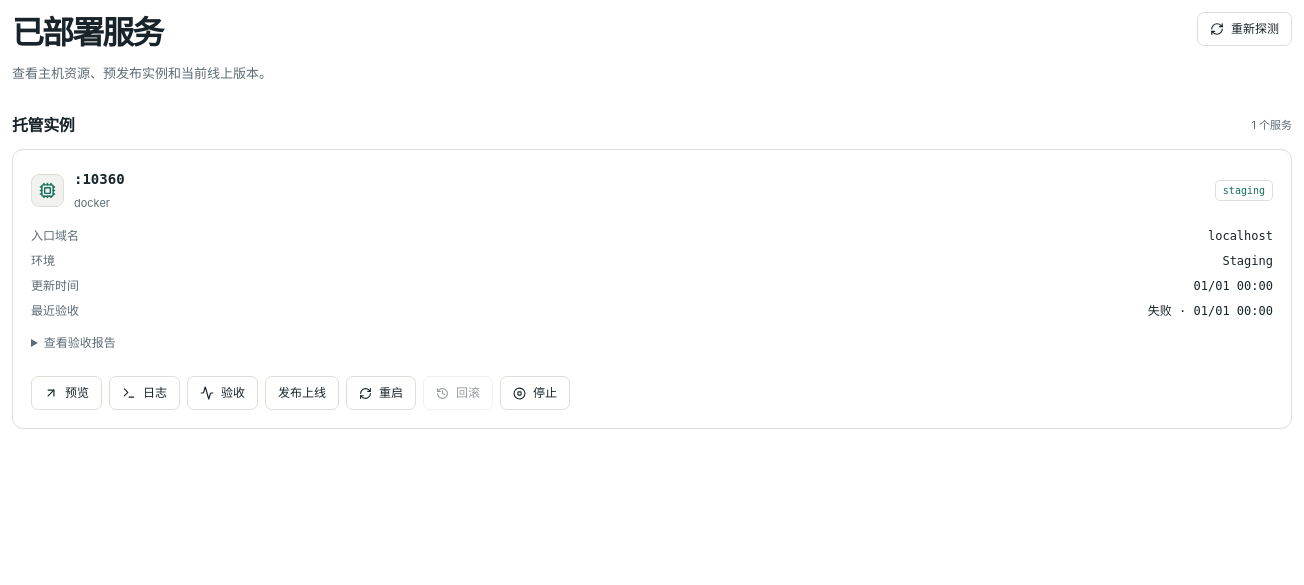
it: 提交指定的上线验收条件，展示上次验收的失败项与截图
Later steps or results of the test are not shown.
Click the heading "查看验收报告": (80,343) 44,335 -> 116,350
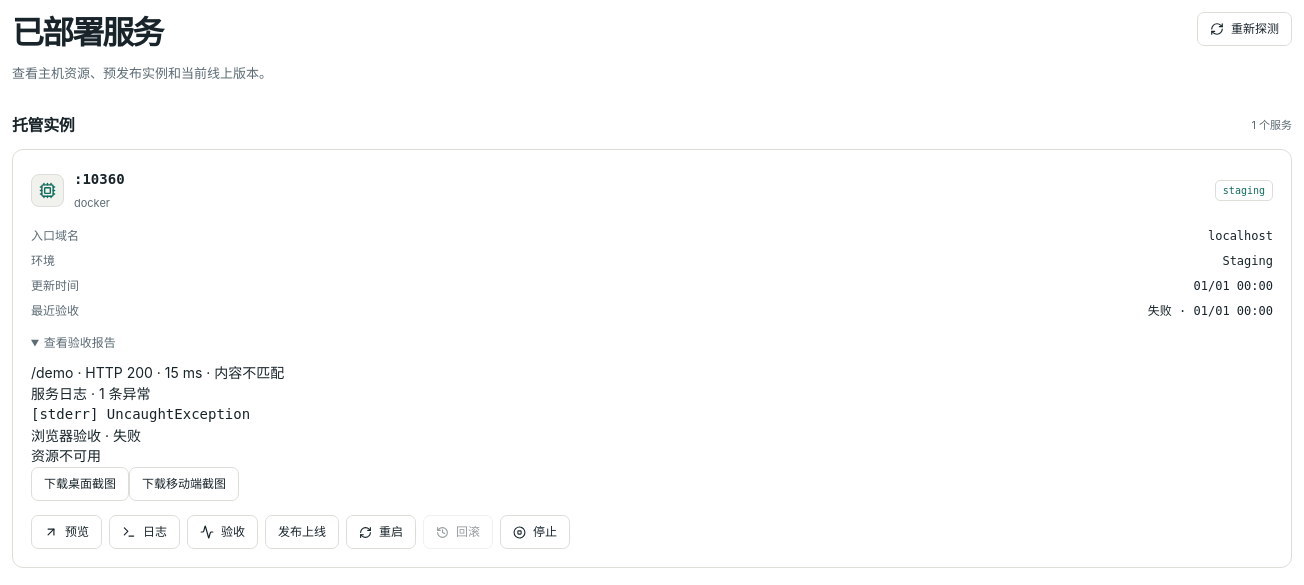
Now the text "/demo · HTTP 200 · 15 ms · 内容不匹配" is shown, box 31,364 -> 284,381
Now the text "[stderr] UncaughtException" is shown, box 31,406 -> 250,422
Now the text "资源不可用" is shown, box 31,448 -> 101,464
